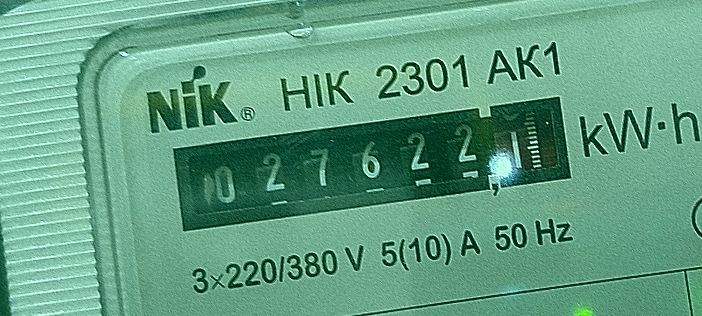0: (210, 162, 240, 207)
1: (506, 127, 527, 172)
2: (403, 129, 433, 173), (260, 150, 288, 195), (452, 121, 480, 165)
6: (357, 139, 384, 182)
7: (308, 146, 336, 191)
screen: (159, 85, 586, 240)
